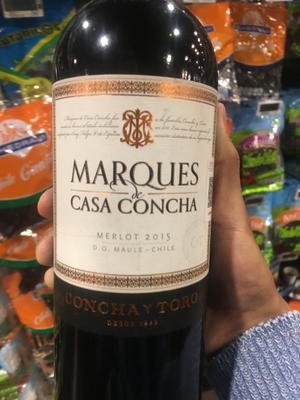marques de casa concha merlot: (47, 3, 241, 388)
